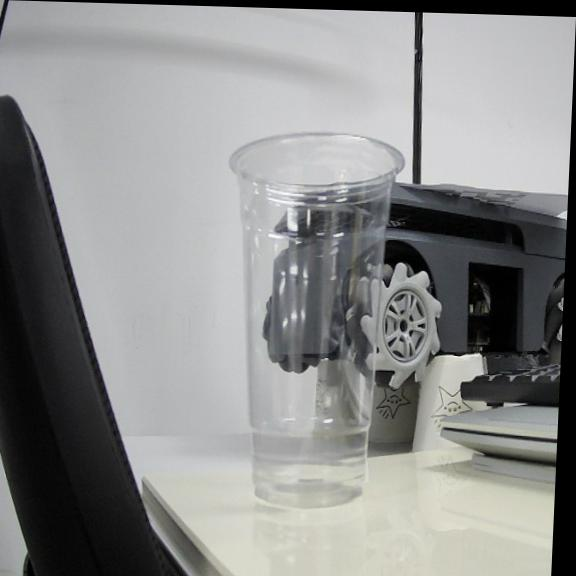Plastik: (230, 133, 404, 507)
